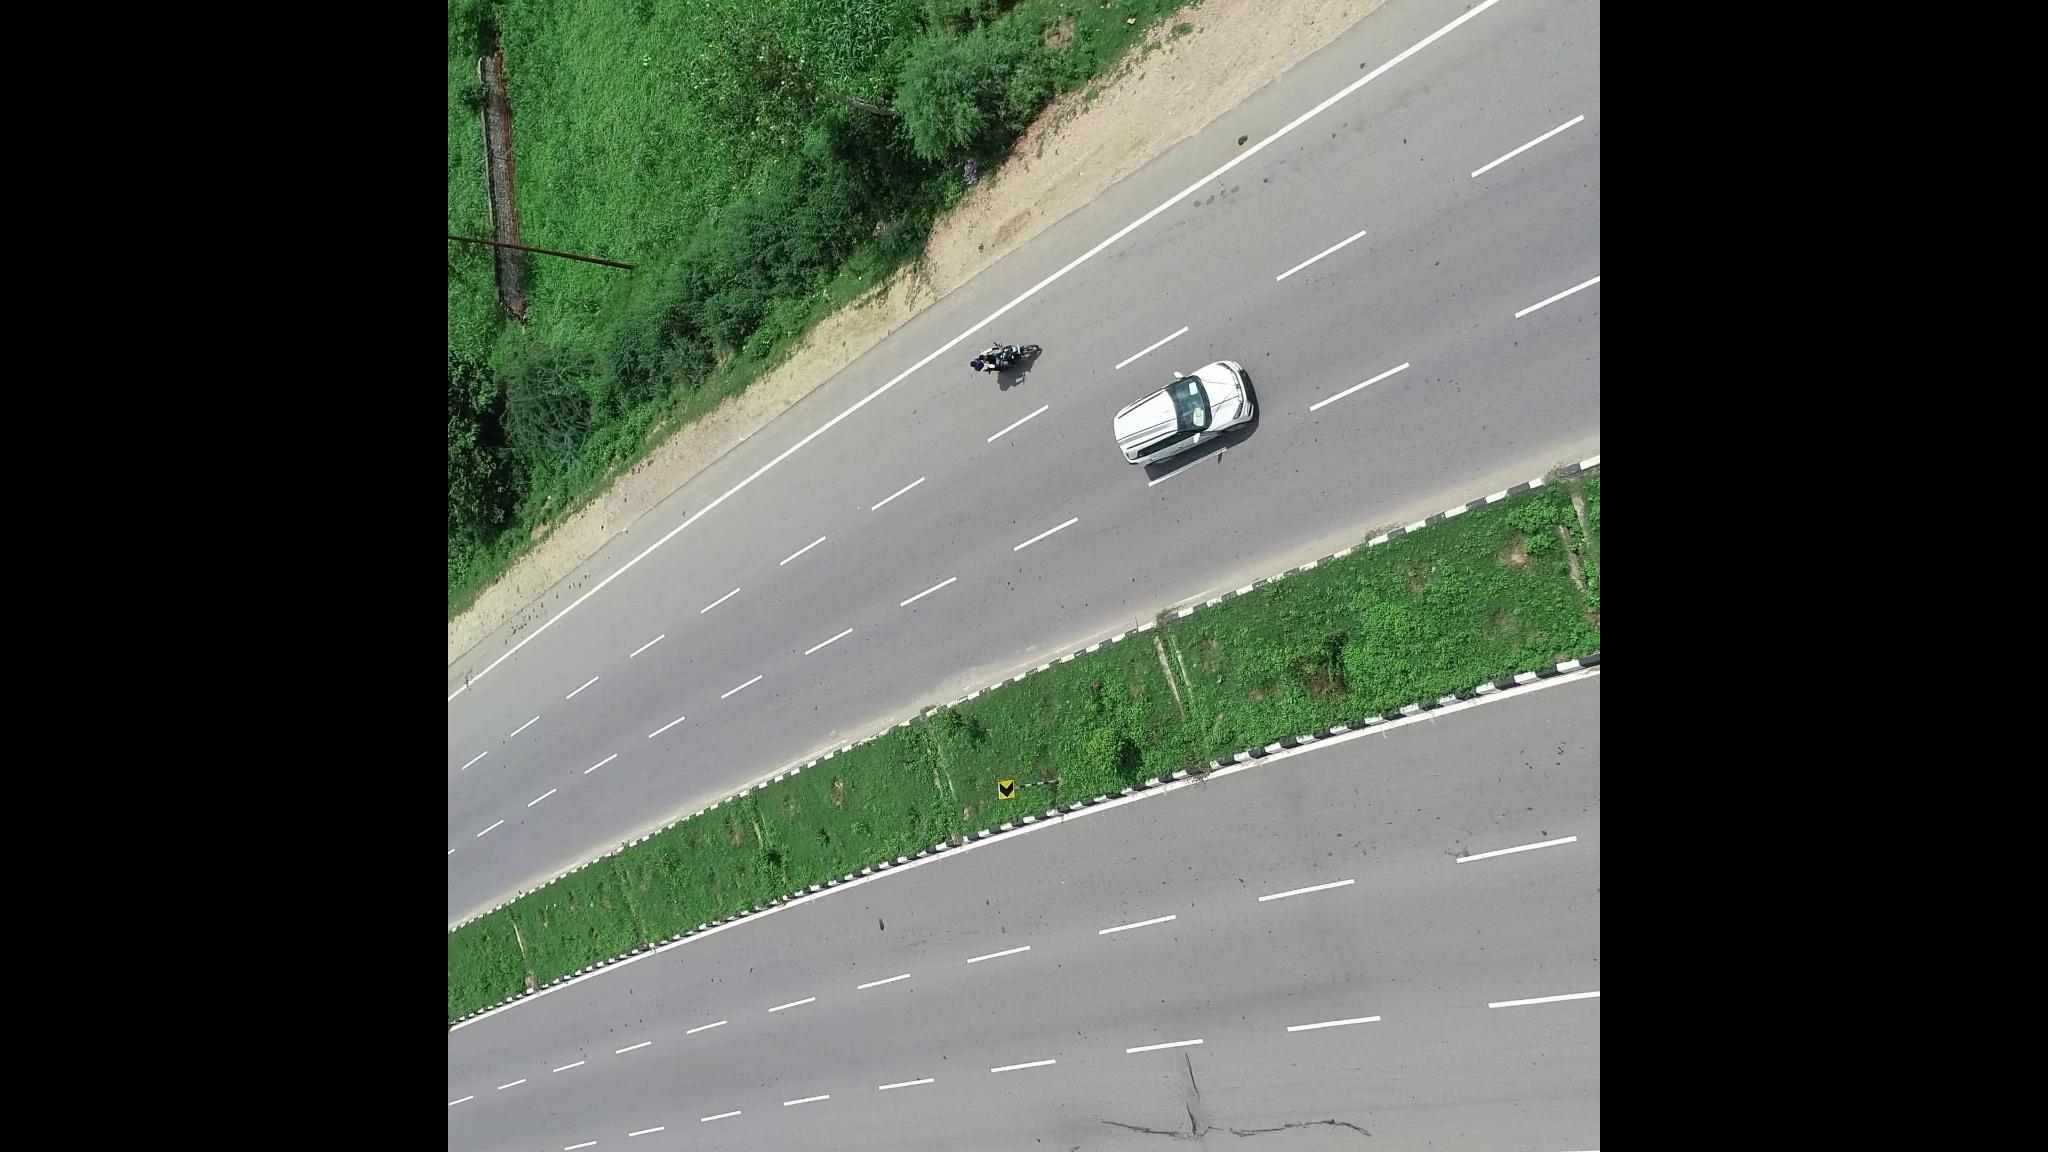Cracks: (1100, 1089, 1378, 1145)
